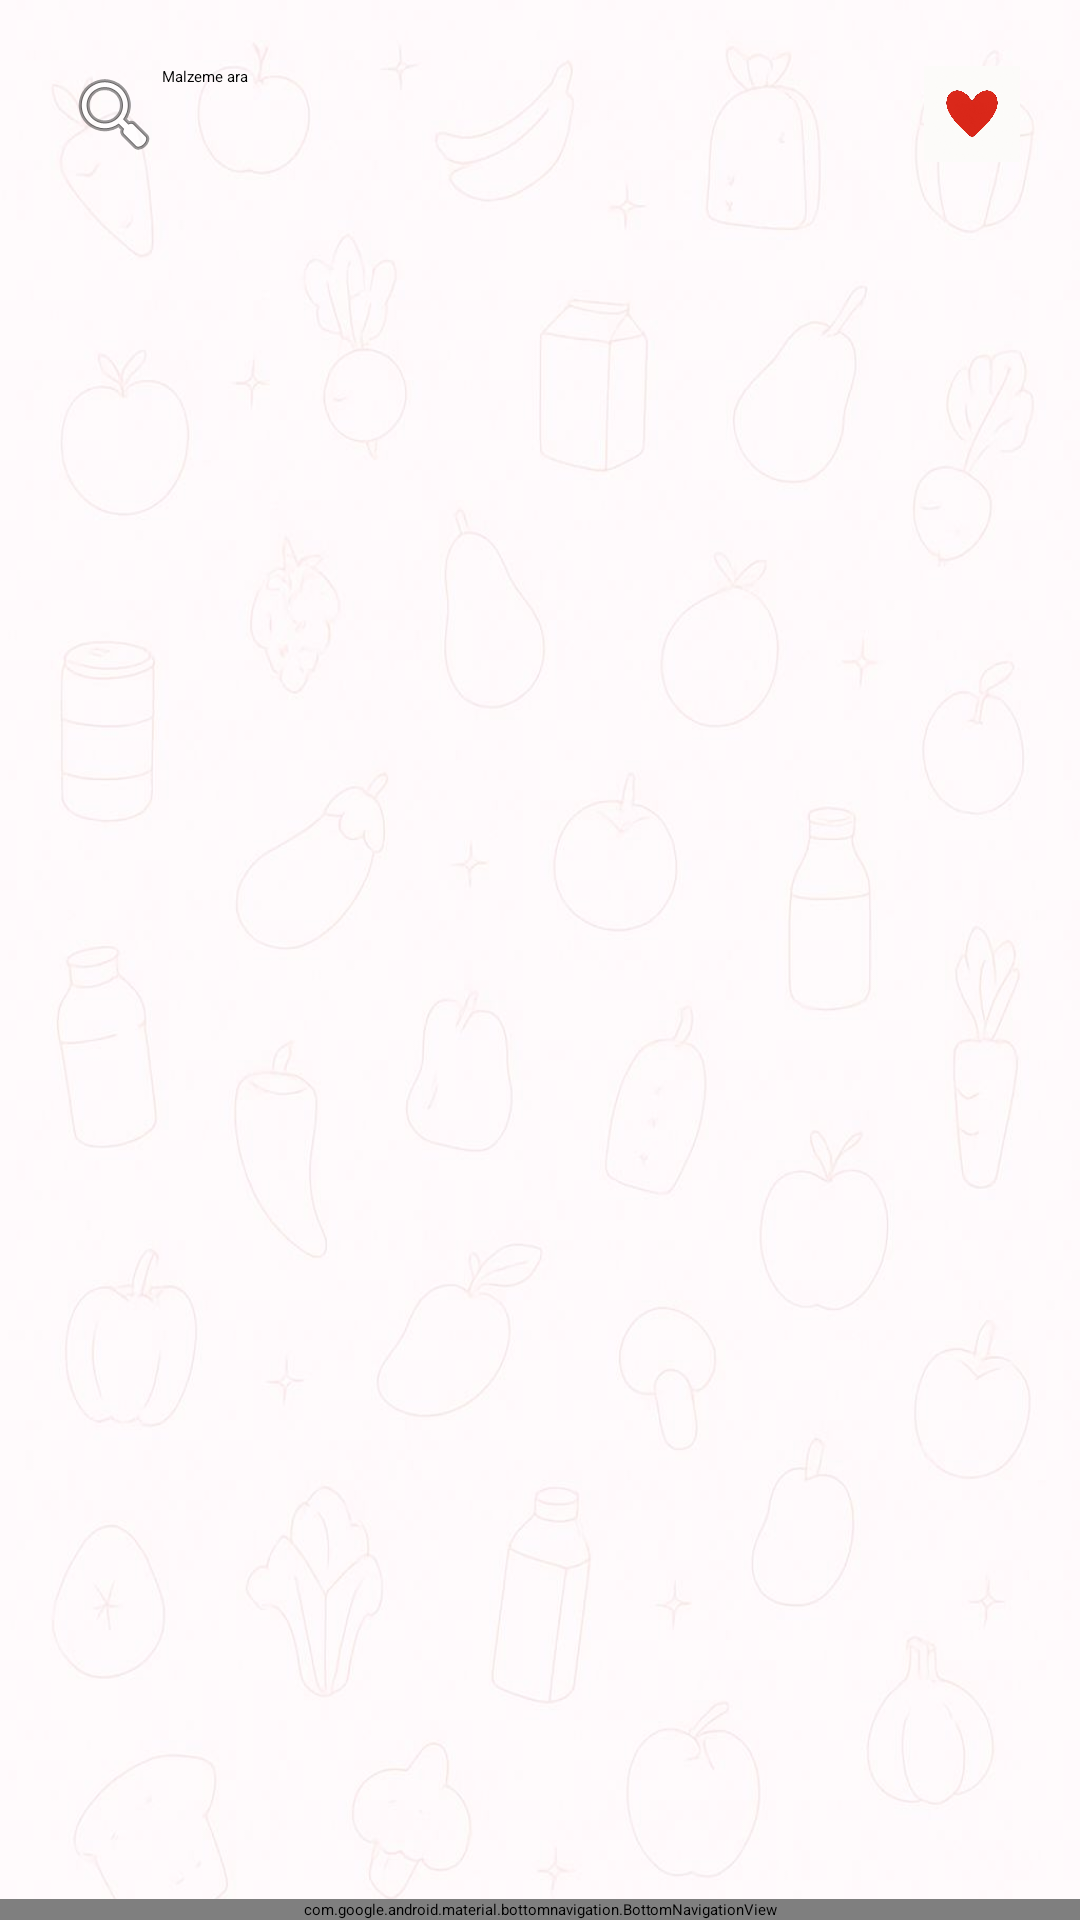

Icons on this 1080x1920 Android screen, each with the point to tap as point (x, y):
dolukalp: point (972, 113)
